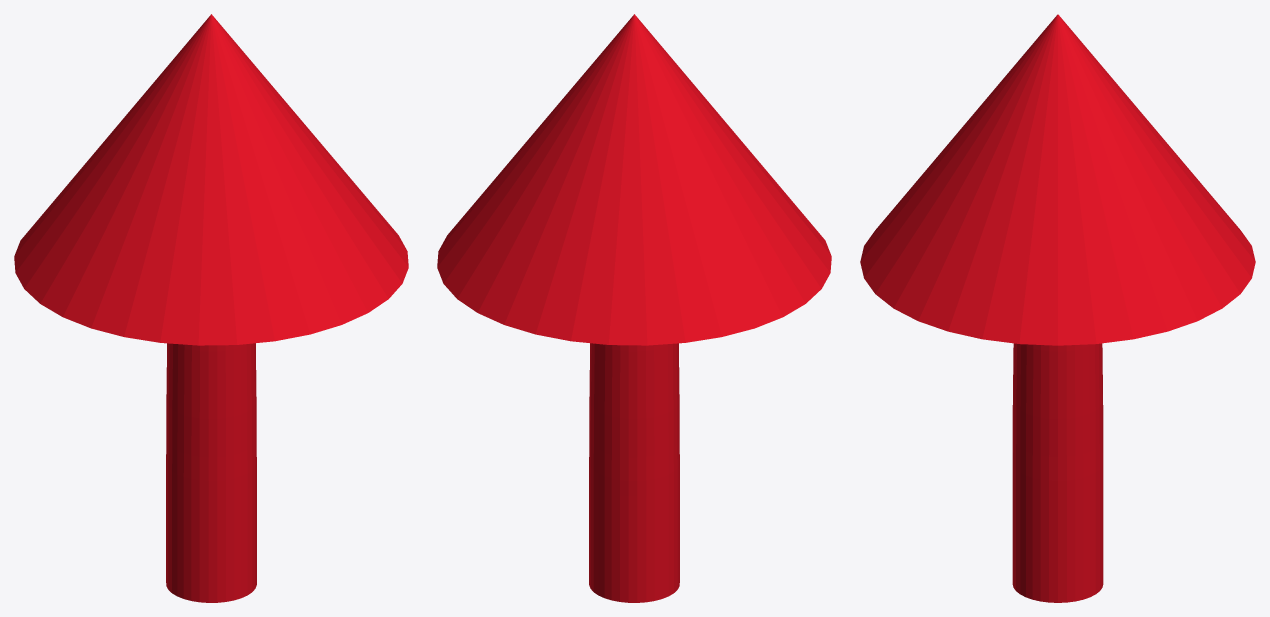
File: Pointing Arrow.fbx
3 views of the same model, side by side, from view 1: azimuth 30°, elevation 25°; view 2: azimuth 150°, elevation 25°; view 3: azimuth 270°, elevation 25° (orthographic).
Parts seen in each view (by area): view 1: Cylinder; view 2: Cylinder; view 3: Cylinder.
Boxes of the visible parts, bbox=[...] form: Cylinder: bbox=[14, 14, 408, 602]; Cylinder: bbox=[437, 14, 831, 602]; Cylinder: bbox=[860, 14, 1255, 602].
Bounding box in the file's own units: 521 × 828 × 521.
